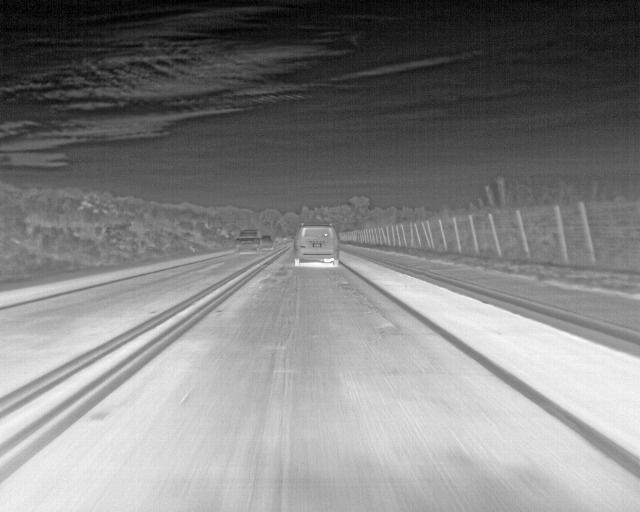car: (294, 222, 340, 267), (235, 234, 259, 252), (260, 234, 273, 249)
